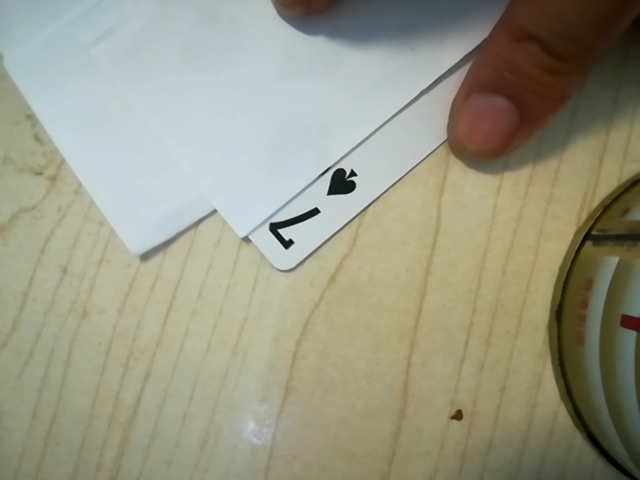ht 7: (251, 150, 375, 263)
